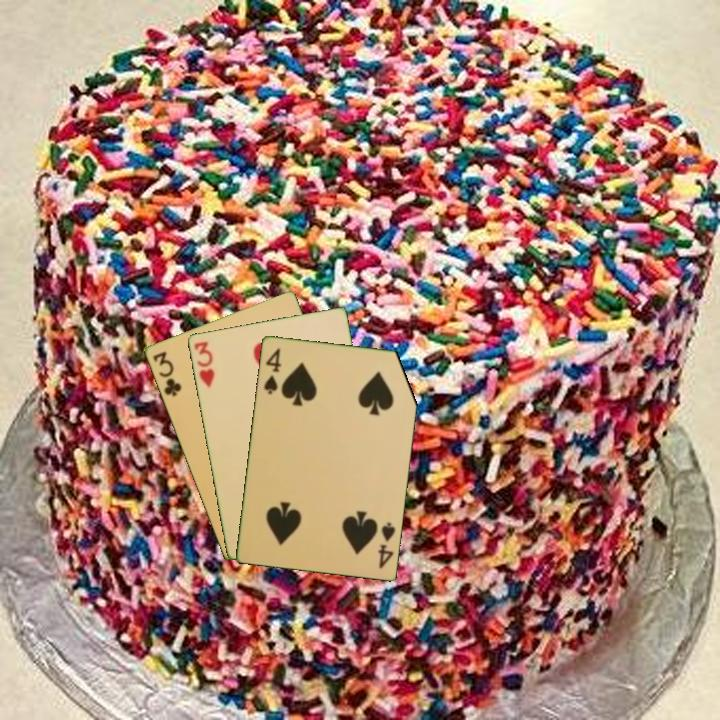3c: (149, 348, 184, 399)
3h: (190, 337, 217, 390)
4s: (260, 344, 284, 397), (374, 518, 398, 571)
